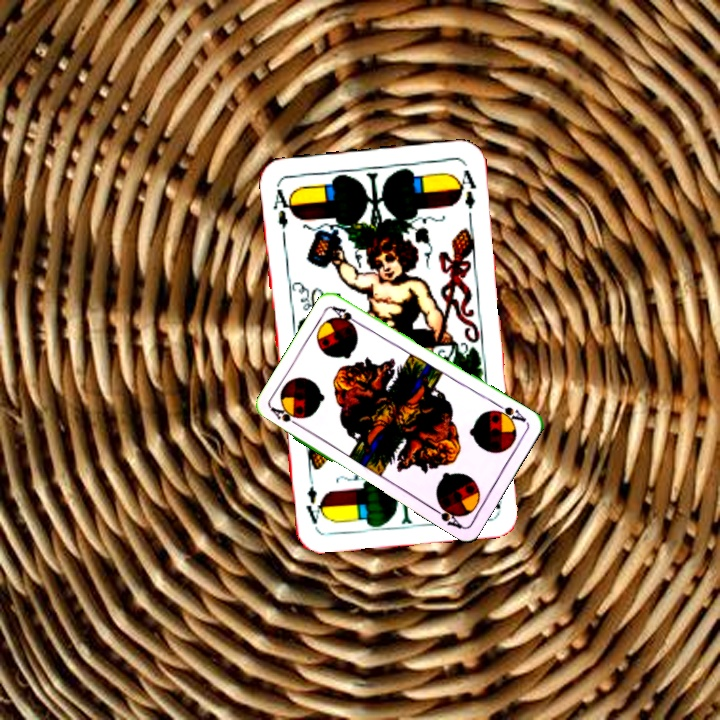EA: (269, 181, 296, 231)
SA: (489, 399, 529, 427), (268, 402, 305, 430)
